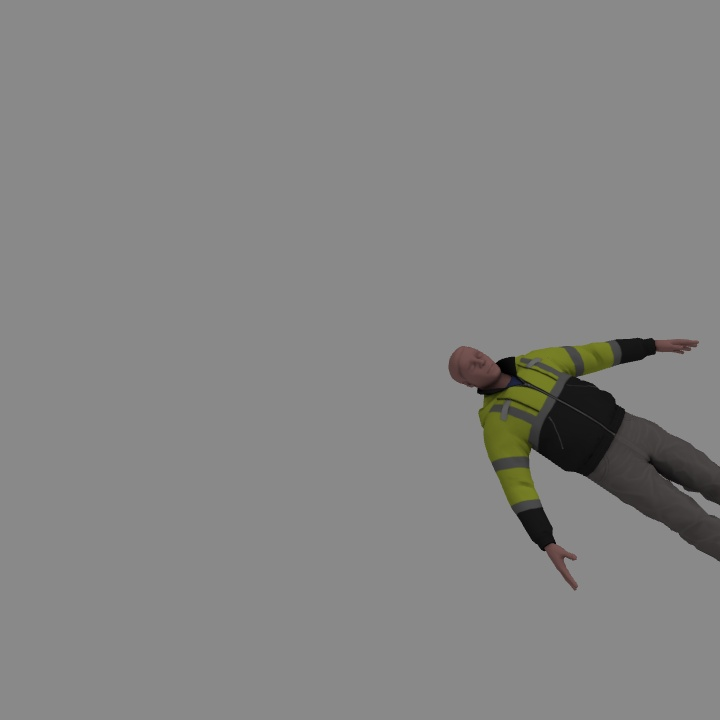victim: (452, 341, 720, 572)
